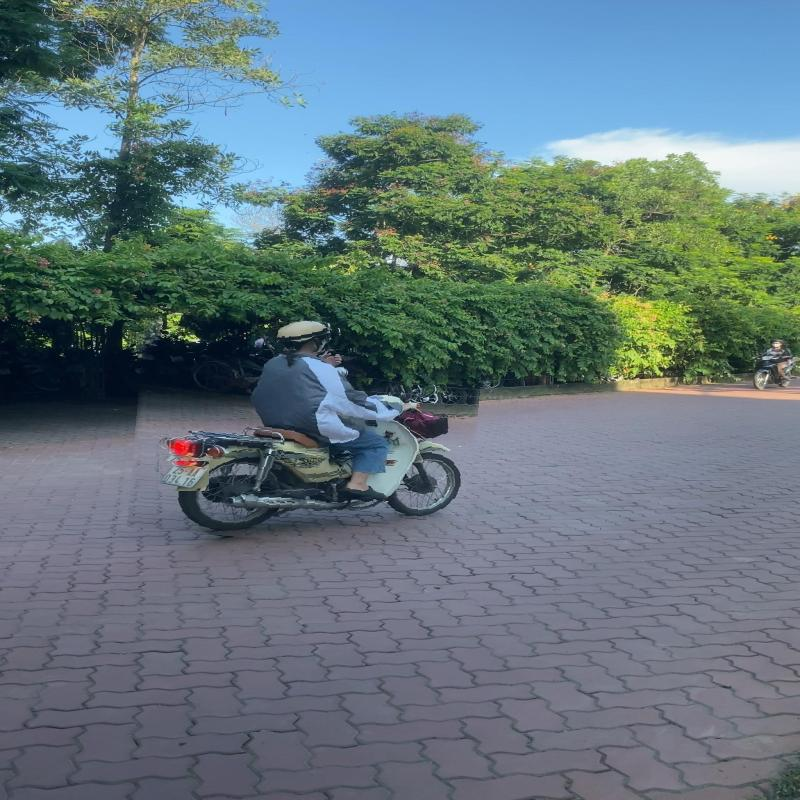helmet: (272, 318, 340, 355)
licenseplate: (159, 461, 209, 491)
motorcyclist: (132, 308, 480, 549)
